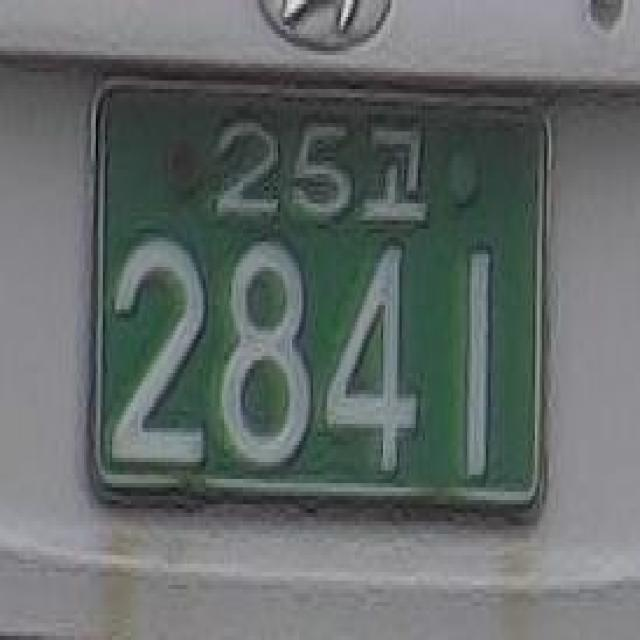illegal_plate: (72, 56, 572, 552)
